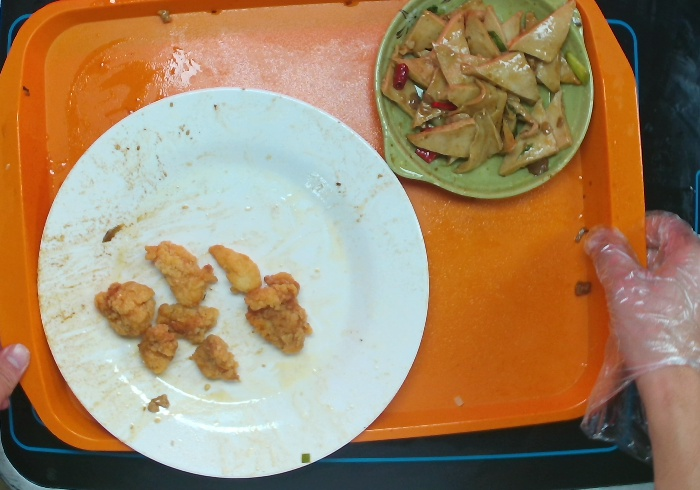NLDX-Da_Yuan_Pan: (36, 84, 432, 480)
NLDX-Lv_Hua_Shuang_Er_Die: (365, 1, 598, 205)
